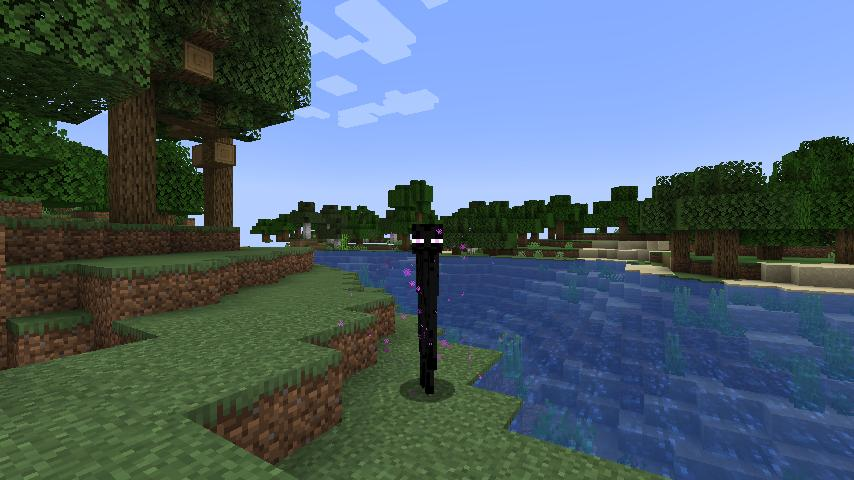enderman: (407, 218, 446, 398)
